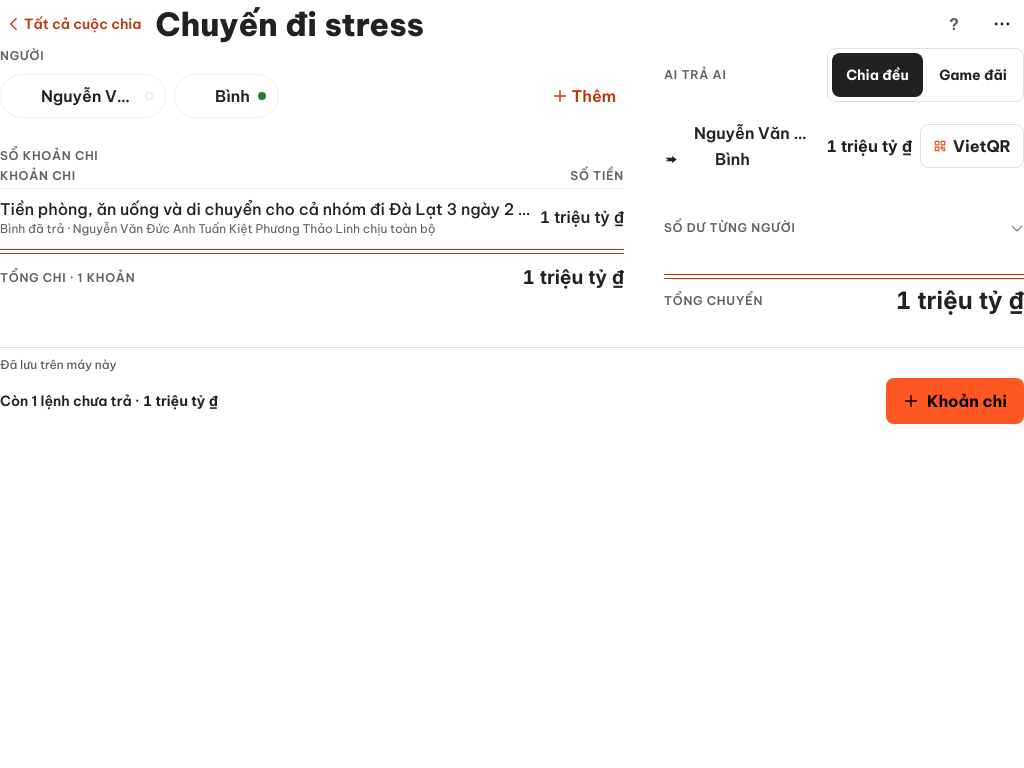
it: Panel #03 — Sheet khoản chi (Finding B, cấu trúc) › (vii) form chốt cột minmax(0,1fr); chip tên dài có min-w-0 + truncate; «Bỏ chọn tất cả» có mặt
CTA chính của S2 ở dock: «+ Khoản chi» (SPEC §2 S2).
Click the button "Khoản chi".
click(955, 401)  # box [886,378,1023,424]
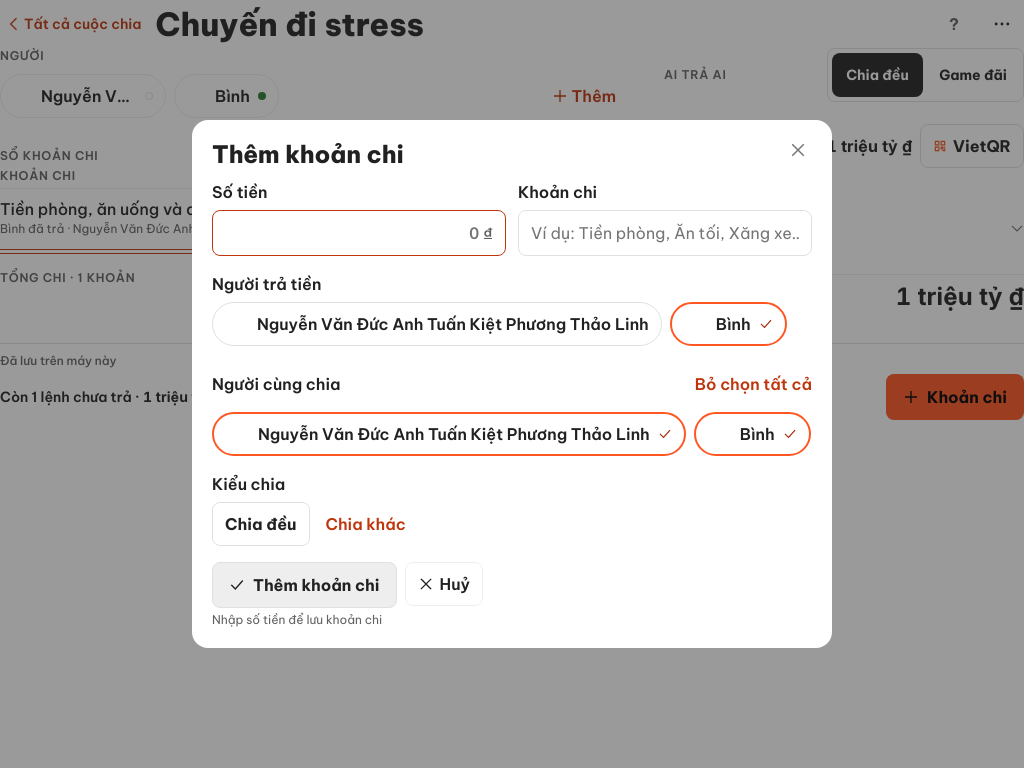
Expected: the radio button labelled "Nguyễn Văn Đức Anh Tuấn Kiệt Phương Thảo Linh" is shown, [212,302,662,346]
Expected: the text with class "truncate" below "Người trả tiền" is shown, [257,312,649,336]
Expected: the dialog shows "Bỏ chọn tất cả", [687,362,820,406]
